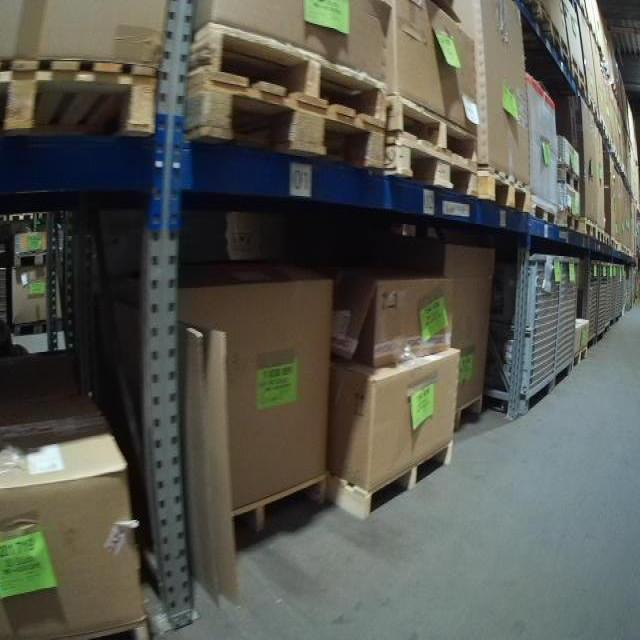pallet: (182, 18, 387, 124), (180, 69, 384, 169), (1, 58, 162, 149), (327, 435, 457, 521), (224, 469, 332, 555), (387, 88, 482, 167), (384, 128, 479, 198), (478, 158, 532, 215), (515, 0, 551, 53), (60, 618, 148, 639), (447, 390, 483, 434), (531, 192, 556, 227), (552, 35, 570, 77), (552, 20, 569, 59), (580, 218, 598, 240), (17, 251, 46, 264), (560, 211, 578, 230)
stillage: (475, 253, 563, 420), (552, 256, 583, 398), (572, 258, 600, 365), (590, 261, 609, 352), (603, 263, 614, 337), (610, 263, 618, 336), (618, 262, 624, 325)
